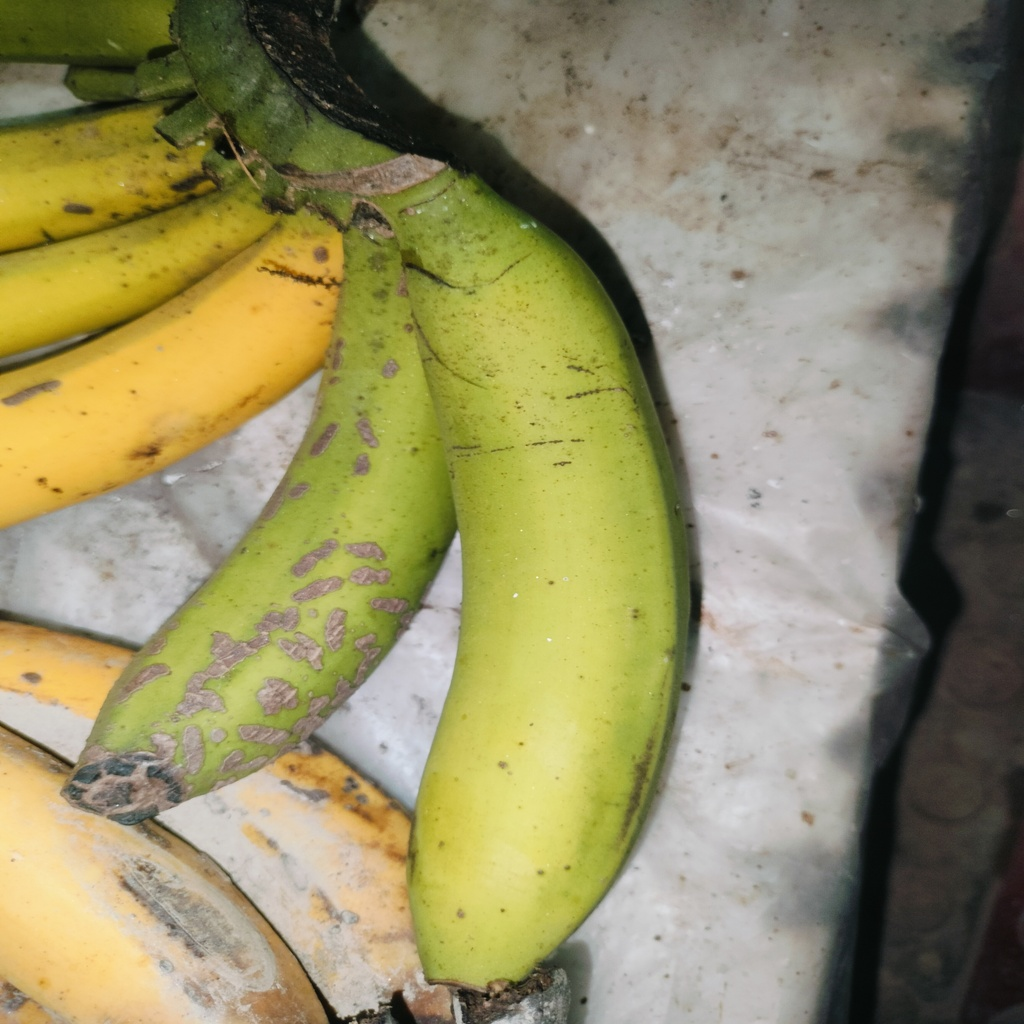healthy: (412, 217, 677, 988)
unhealthy: (70, 209, 460, 813)
